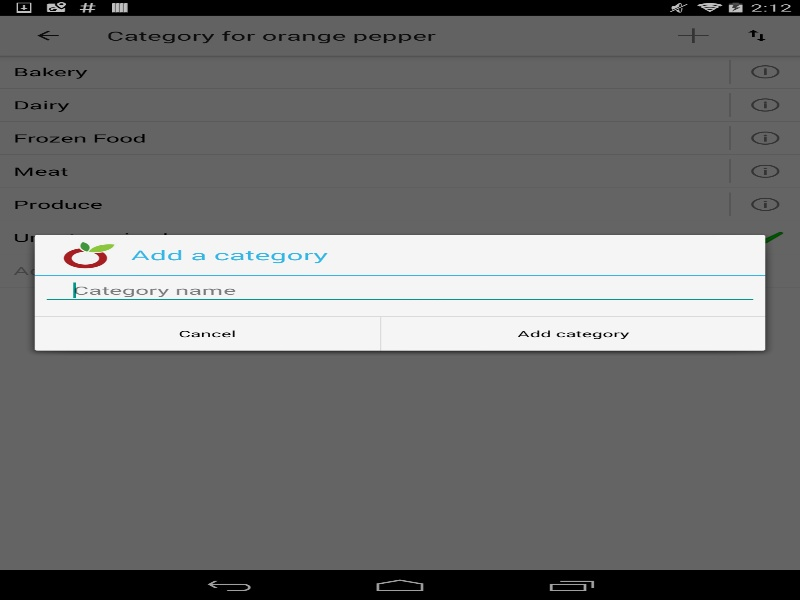Button: (381, 316, 765, 350), (34, 316, 380, 350)
Input: (41, 276, 758, 304)
